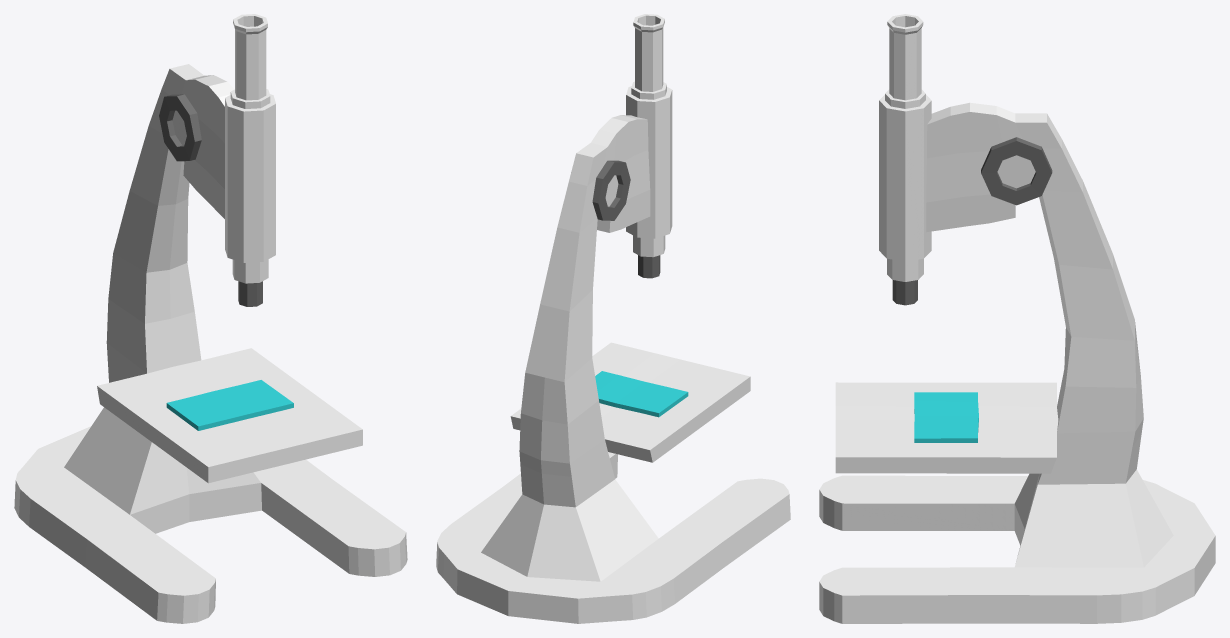
File: Mikroskop.fbx
3 renders of one model, left to right at view 1: azimuth 30°, elevation 25°; view 2: azimuth 150°, elevation 25°; view 3: azimuth 270°, elevation 25°, orthographic. The views are drawn at different scales.
Visible parts, largest first — view 1: Cylinder.005; view 2: Cylinder.005; view 3: Cylinder.005.
Part boxes in pixels (bbox=[...]): Cylinder.005: bbox=[14, 14, 407, 623]; Cylinder.005: bbox=[436, 14, 790, 623]; Cylinder.005: bbox=[819, 14, 1215, 623].
Bounding box in the file's own units: 52.01 × 108 × 71.76.
Materials: 1 (1 with a texture image).
